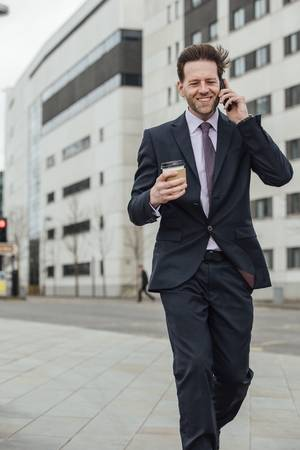phone: (217, 76, 239, 114)
talk: (186, 72, 250, 120)
